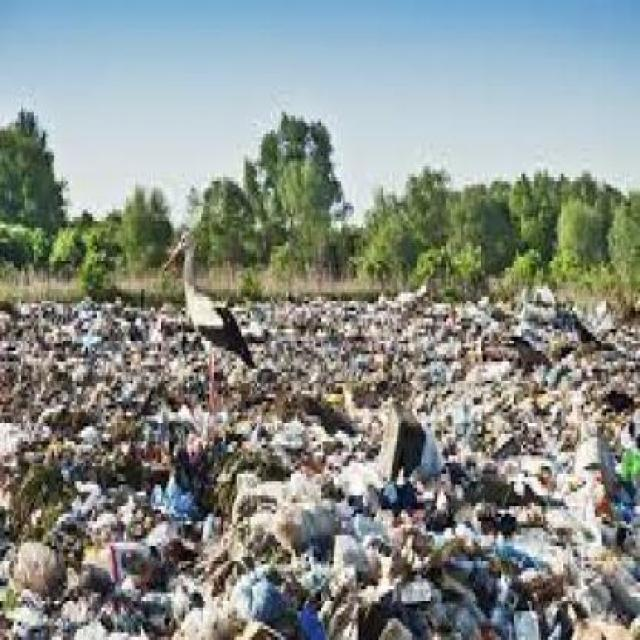garbage: (165, 354, 638, 636), (0, 299, 175, 635), (243, 297, 638, 370)
